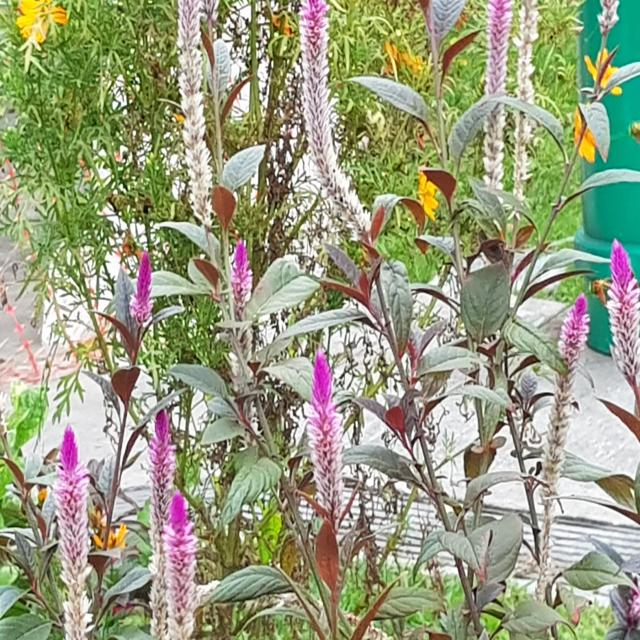Celosia-Argentea: (539, 276, 591, 622), (286, 0, 343, 264), (167, 0, 225, 232), (43, 416, 100, 640), (139, 396, 178, 640), (150, 481, 207, 640), (304, 350, 349, 550), (593, 230, 640, 386), (474, 0, 506, 228), (510, 0, 534, 224), (117, 242, 158, 331), (222, 230, 260, 320)
